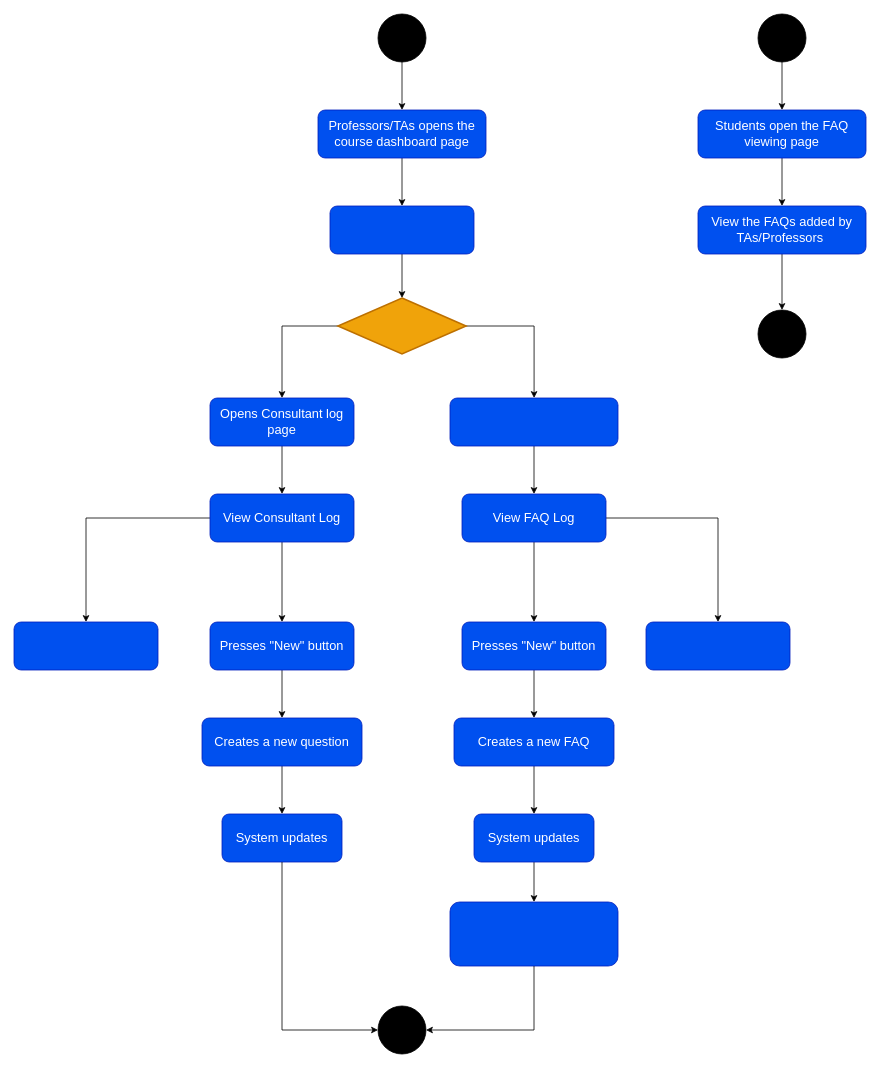
This 880x1068 diagram has some shape labels left out. The shapes that lost their labels are listed below. From the top down, each one's centre as x and y in pixels, then its label:
At [401,229]: "Professors/TAs selects a course".
At [401,325]: "Selects a page".
At [533,421]: "Opens FAQ Management page".
At [85,645]: "Continue viewing Consultant Log".
At [717,645]: "Continue viewing FAQ Log".
At [533,933]: "Updated Content is shown in the Student's FAQ Page".
